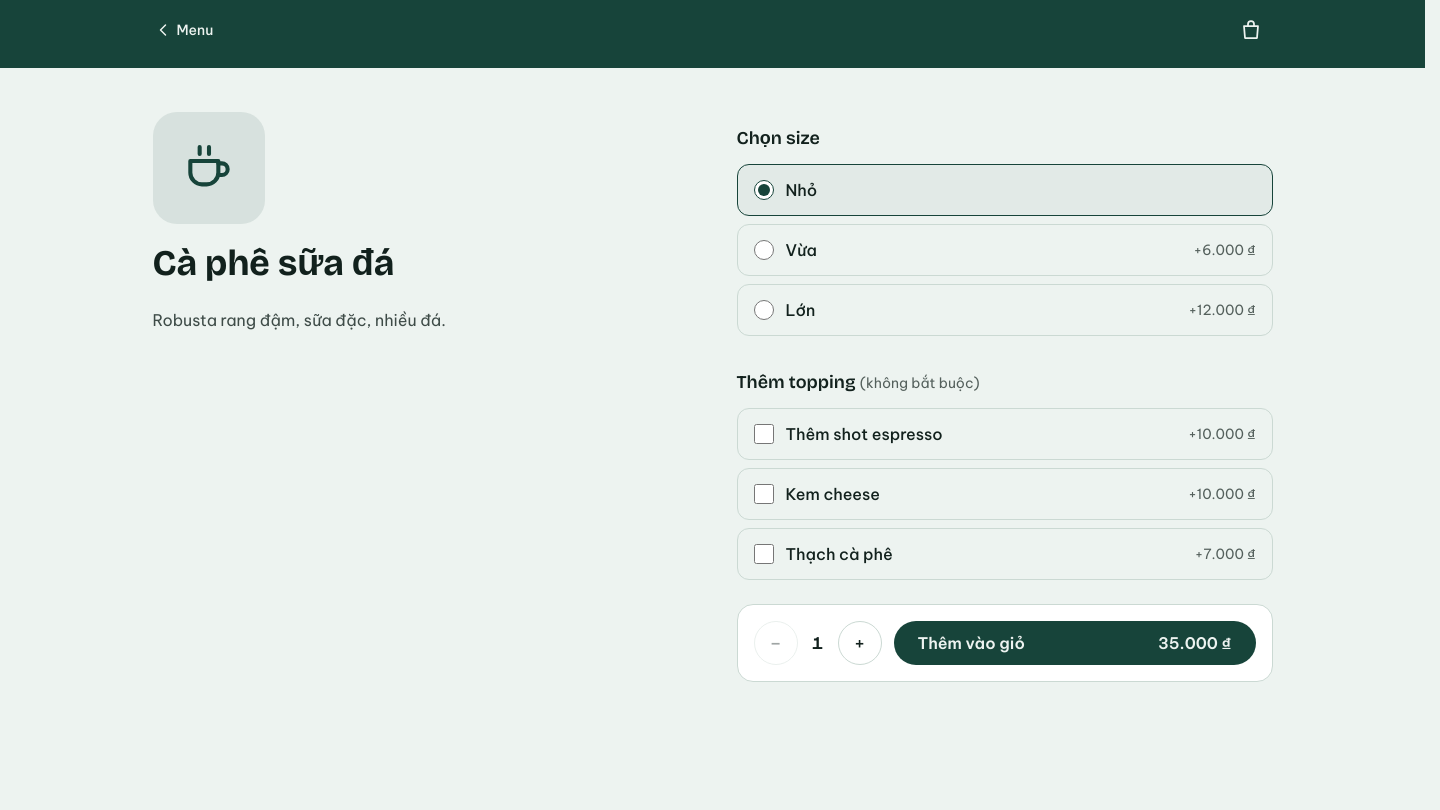
Test: ProductDetailScreen › cập nhật giá khi đổi size, thêm topping và đổi số lượng
The width and height of the screenshot is (1440, 810).
Expected: the heading "Cà phê sữa đá" is shown, [152,242,394,285]
Click the radio button labelled "Lớn +12.000 ₫": (764, 310) [754,300,774,320]
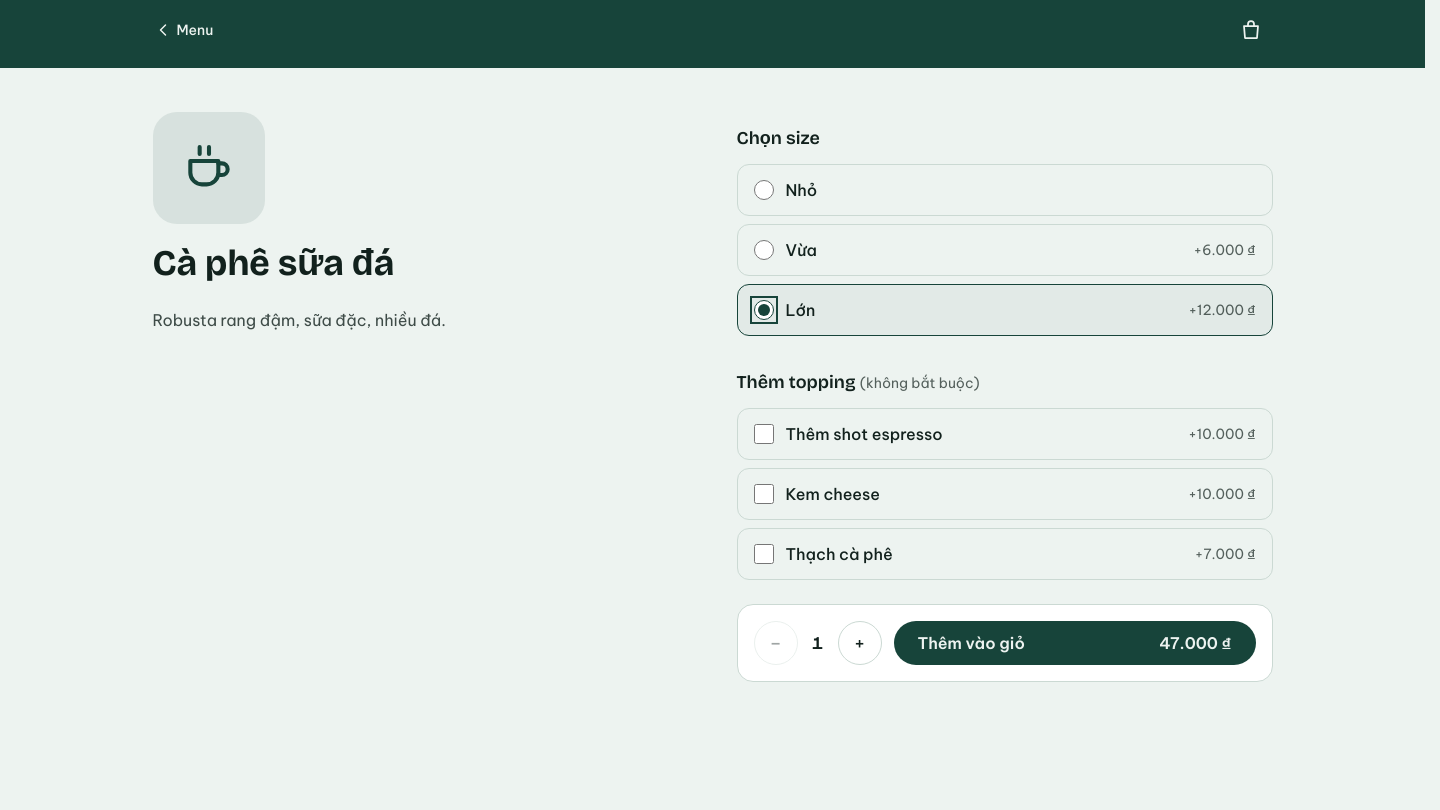
Now the button "Thêm vào giỏ 47.000 ₫" is shown, box [894,621,1256,665]
Click the checkbox labelled "Kem cheese +10.000 ₫": (764, 494) [754,484,774,504]
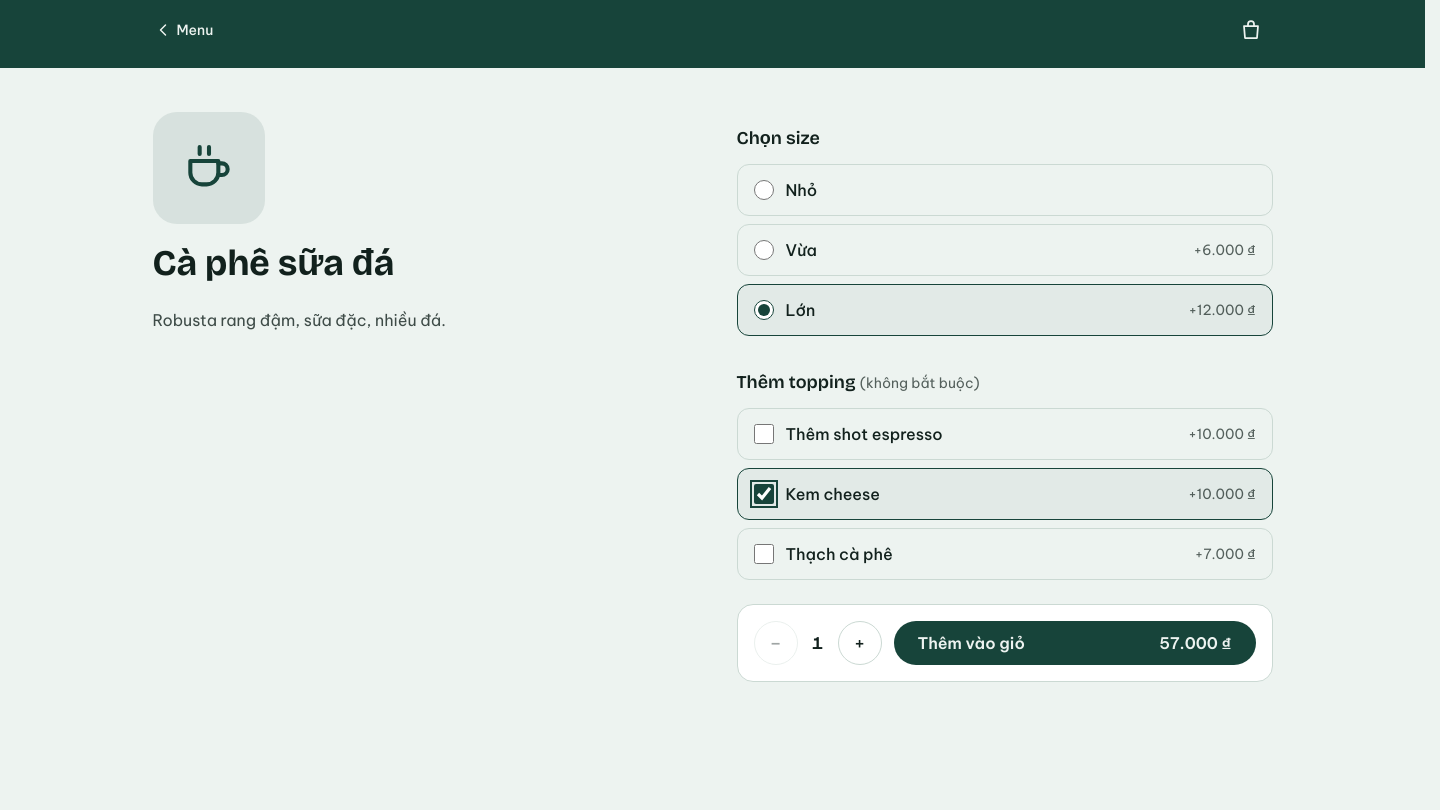
Now the button "Thêm vào giỏ 57.000 ₫" is shown, box [894,621,1256,665]
Click the button "+": (860, 643) [838,621,882,665]
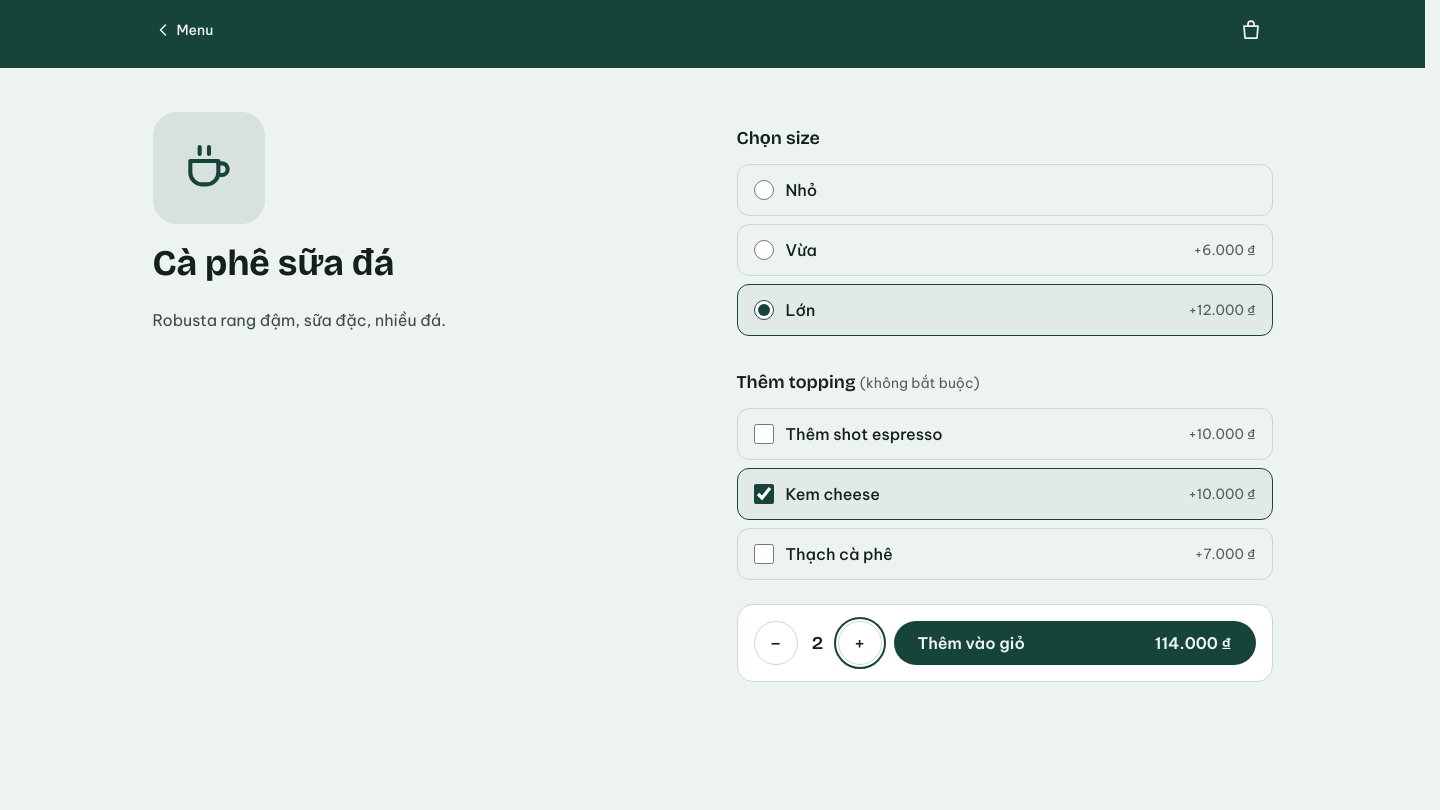
Now the button "Thêm vào giỏ 114.000 ₫" is shown, box [894,621,1256,665]
Click the checkbox labelled "Kem cheese +10.000 ₫": (764, 494) [754,484,774,504]
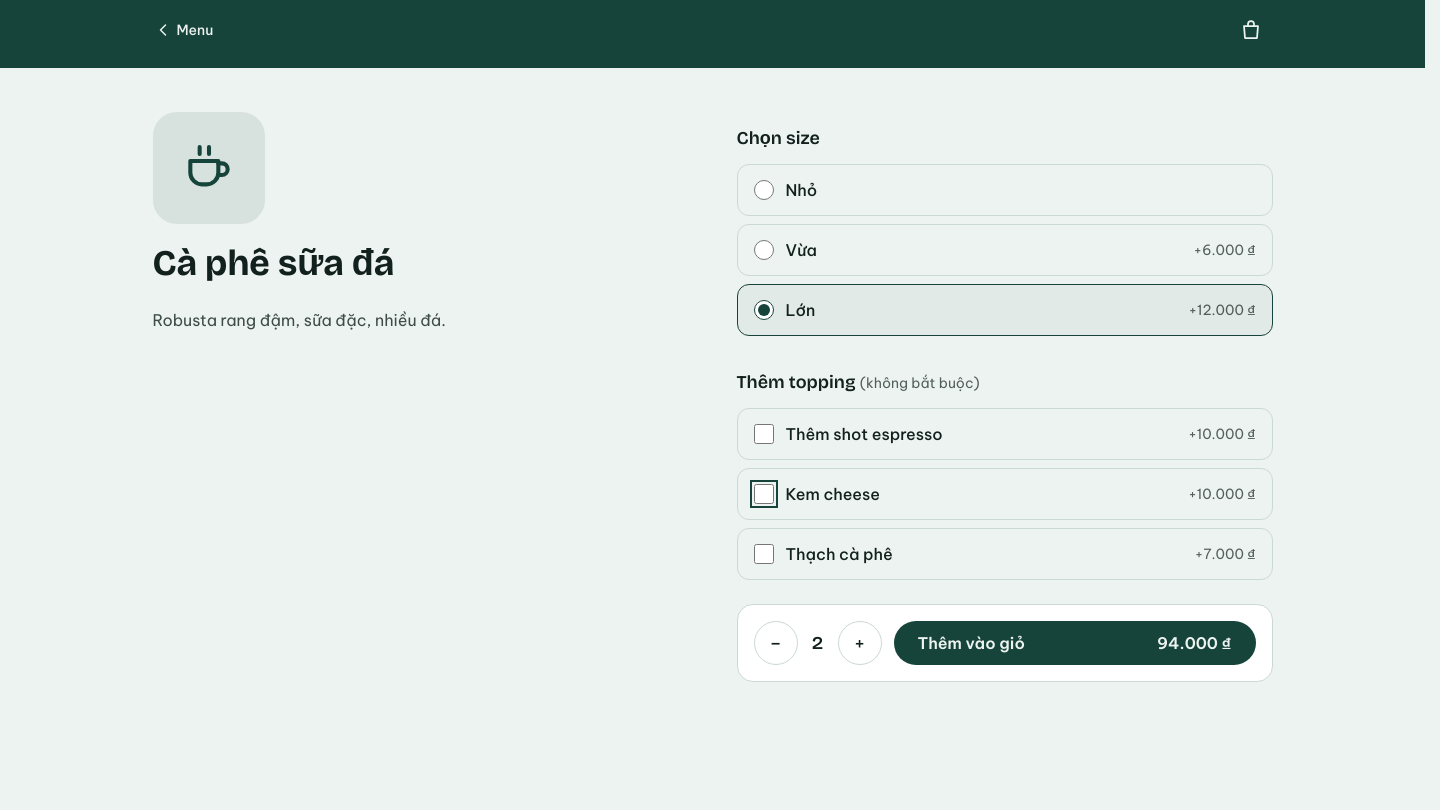
Now the button "Thêm vào giỏ 94.000 ₫" is shown, box [894,621,1256,665]
